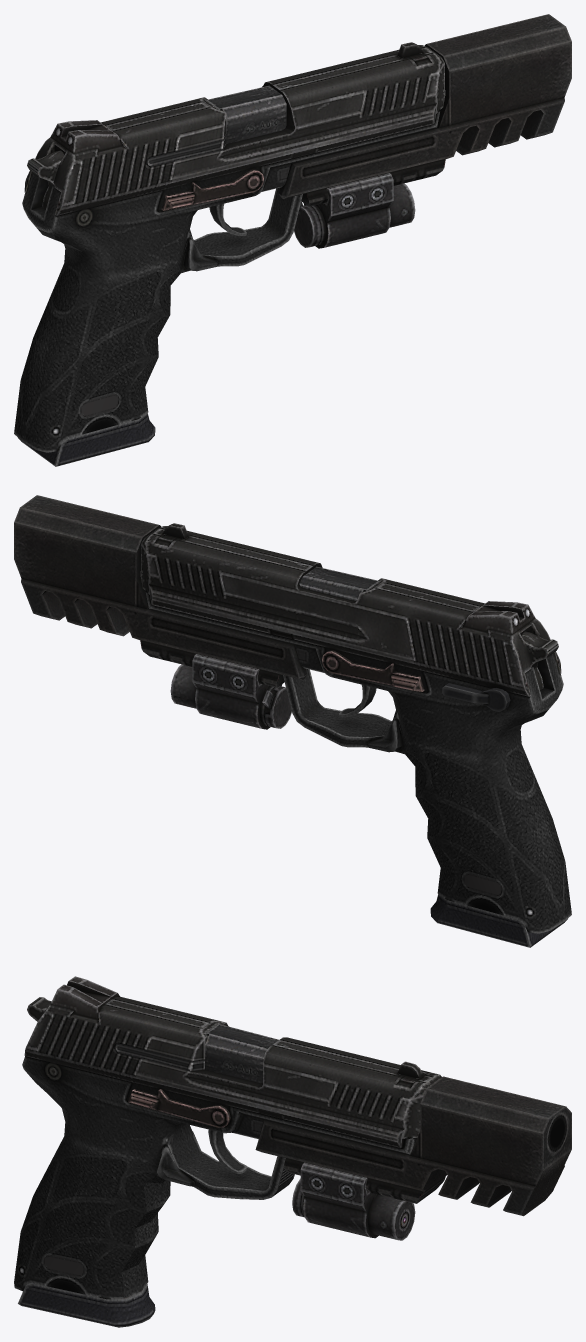
The model's file is Pistol04.FBX.
3 views of the same model, one above another, from view 1: azimuth 30°, elevation 25°; view 2: azimuth 150°, elevation 25°; view 3: azimuth 330°, elevation 25° (orthographic).
Visible parts, largest first — view 1: Pistol04_Body01, Pistol04_Imp01, Pistol04_Imp02; view 2: Pistol04_Body01, Pistol04_Imp01, Pistol04_Imp02; view 3: Pistol04_Body01, Pistol04_Imp01, Pistol04_Imp02.
Part boxes in pixels (bbox=[...]): Pistol04_Body01: bbox=[14, 42, 445, 466]; Pistol04_Imp01: bbox=[278, 14, 571, 206]; Pistol04_Imp02: bbox=[294, 173, 415, 248]; Pistol04_Body01: bbox=[140, 523, 571, 947]; Pistol04_Imp01: bbox=[14, 495, 307, 687]; Pistol04_Imp02: bbox=[170, 654, 291, 729]; Pistol04_Body01: bbox=[14, 976, 441, 1327]; Pistol04_Imp01: bbox=[255, 1076, 571, 1216]; Pistol04_Imp02: bbox=[292, 1162, 415, 1240].
Bounding box in the file's own units: 0.2393 × 0.1364 × 0.0335.
Materials: 3 (3 with a texture image).
